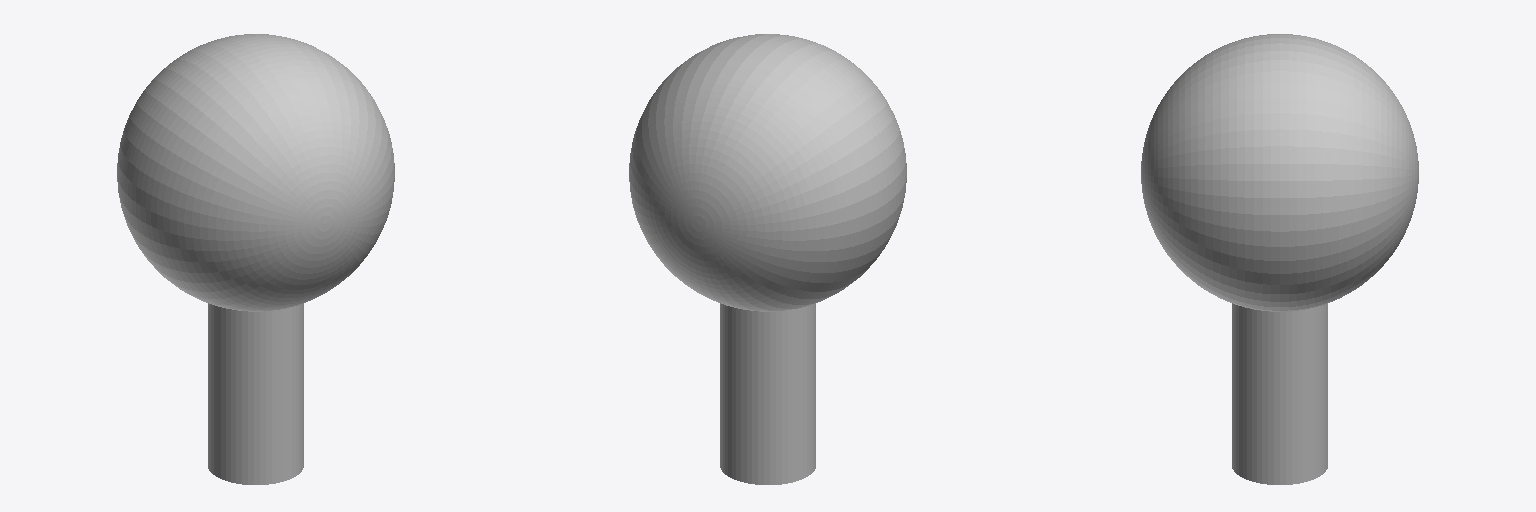
Rendered from Tr-SliderXBoule.obj.
3 renders of one model, left to right at view 1: azimuth 30°, elevation 25°; view 2: azimuth 150°, elevation 25°; view 3: azimuth 270°, elevation 25°, orthographic.
Parts seen in each view (by area): view 1: Tr-SliderXBoule_Slider_Cube.001; view 2: Tr-SliderXBoule_Slider_Cube.001; view 3: Tr-SliderXBoule_Slider_Cube.001.
Part boxes in pixels (x1,y1,x2,y2): Tr-SliderXBoule_Slider_Cube.001: (117,34,394,484); Tr-SliderXBoule_Slider_Cube.001: (629,34,906,484); Tr-SliderXBoule_Slider_Cube.001: (1141,34,1418,484).
Size of the model in its own units: 0.0259 by 0.0429 by 0.0259.